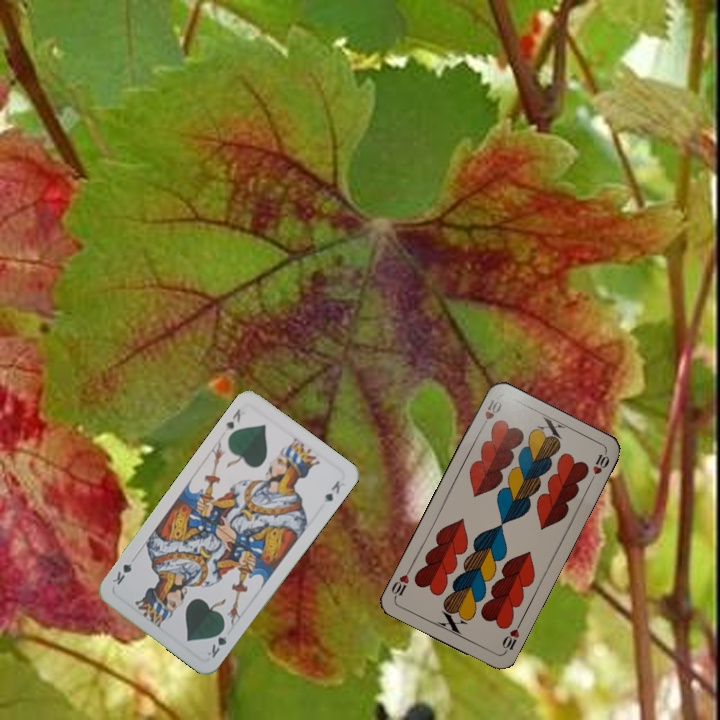GK: (203, 623, 230, 661), (221, 405, 243, 434)
H10: (477, 396, 505, 432), (498, 618, 524, 656)
